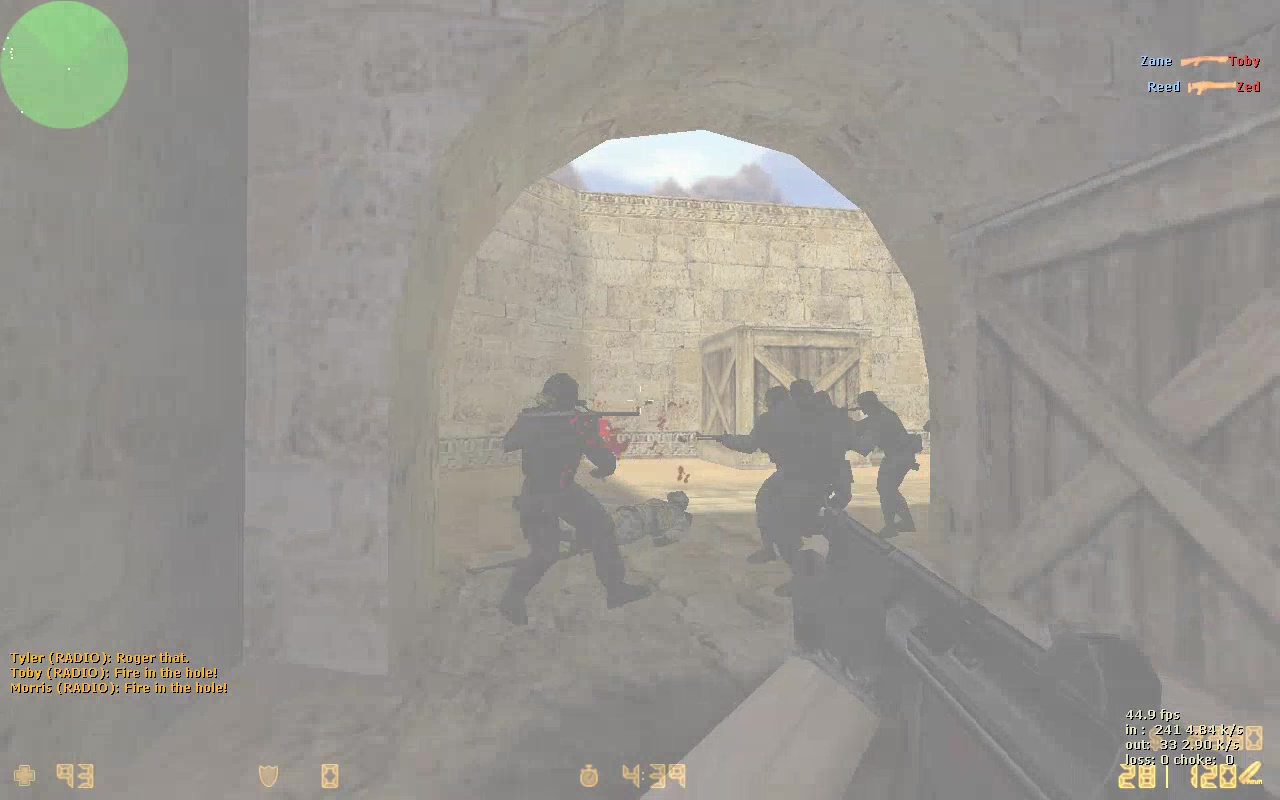ct: (505, 377, 629, 624), (730, 379, 819, 592), (847, 390, 914, 540)
dead: (530, 499, 698, 559)
